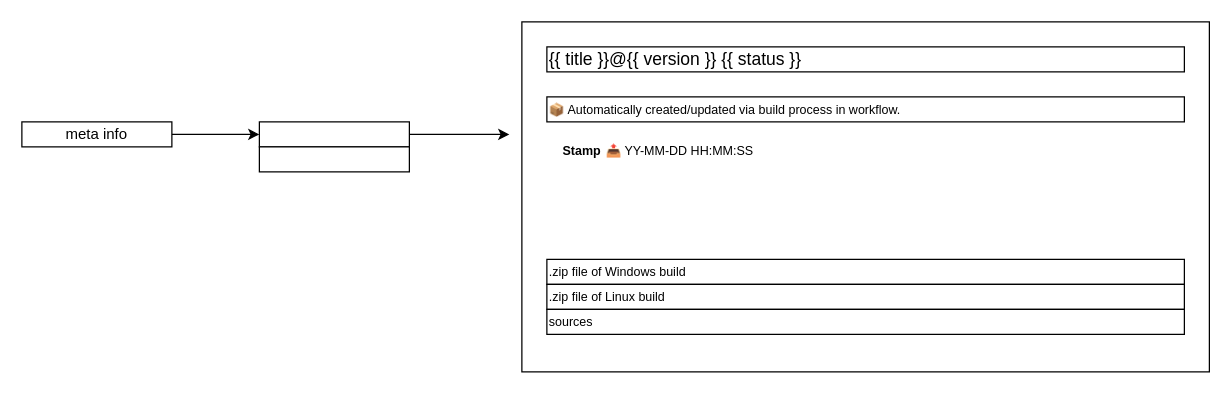
Some shapes in this 1231 by 394 pixel diagram are drawn without their labels. Each missing label, with the centre of its shape:
"status [ α β γ λ ]" goes at [333,159].
"version [ n.n.n ]" goes at [333,134].
